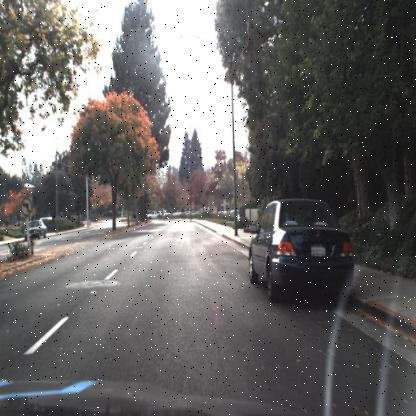car: (246, 197, 358, 301), (23, 220, 48, 238)
